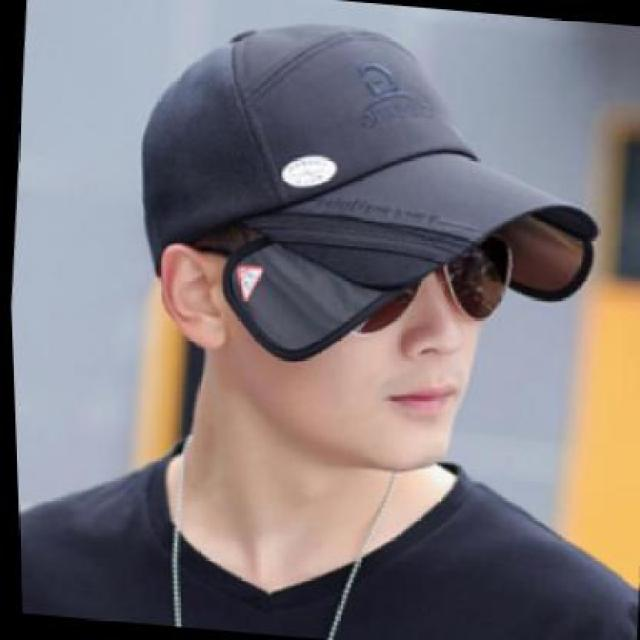hat: (113, 8, 618, 395)
